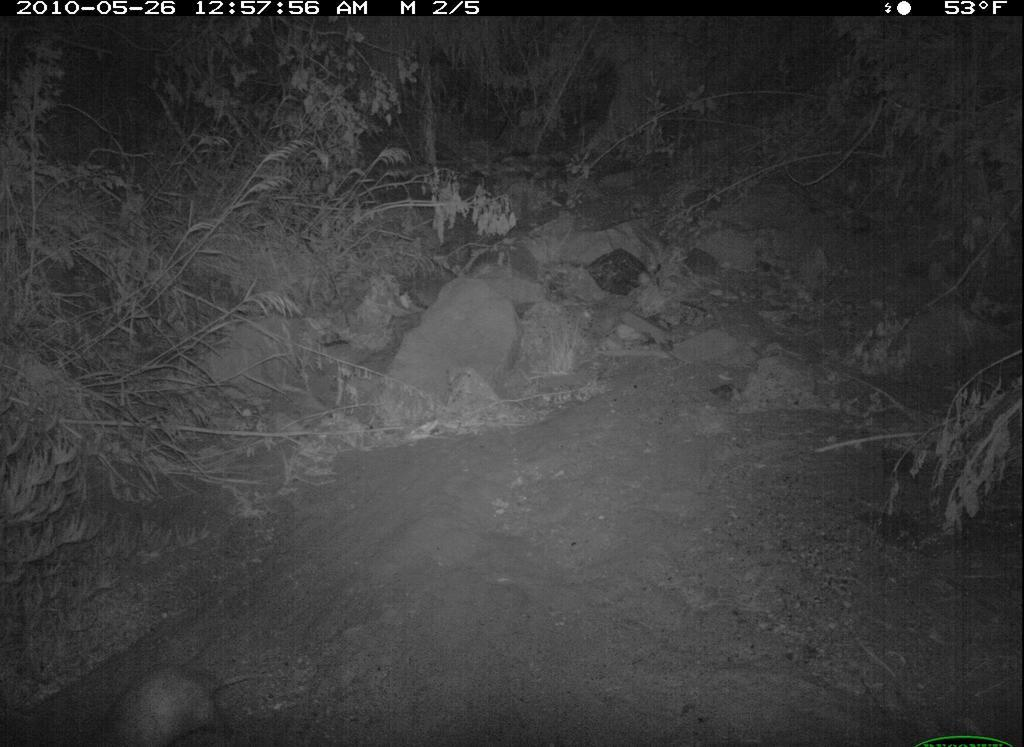opossum: (79, 648, 282, 747)
